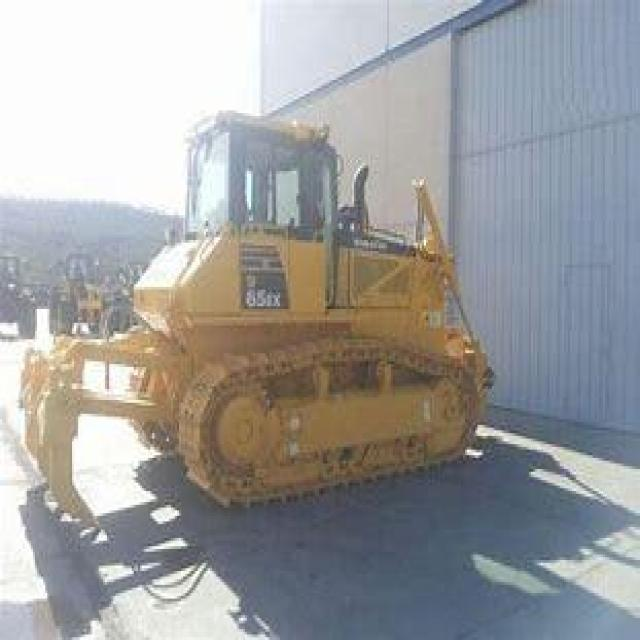buldozerpayloadergrader: (21, 86, 531, 580)
